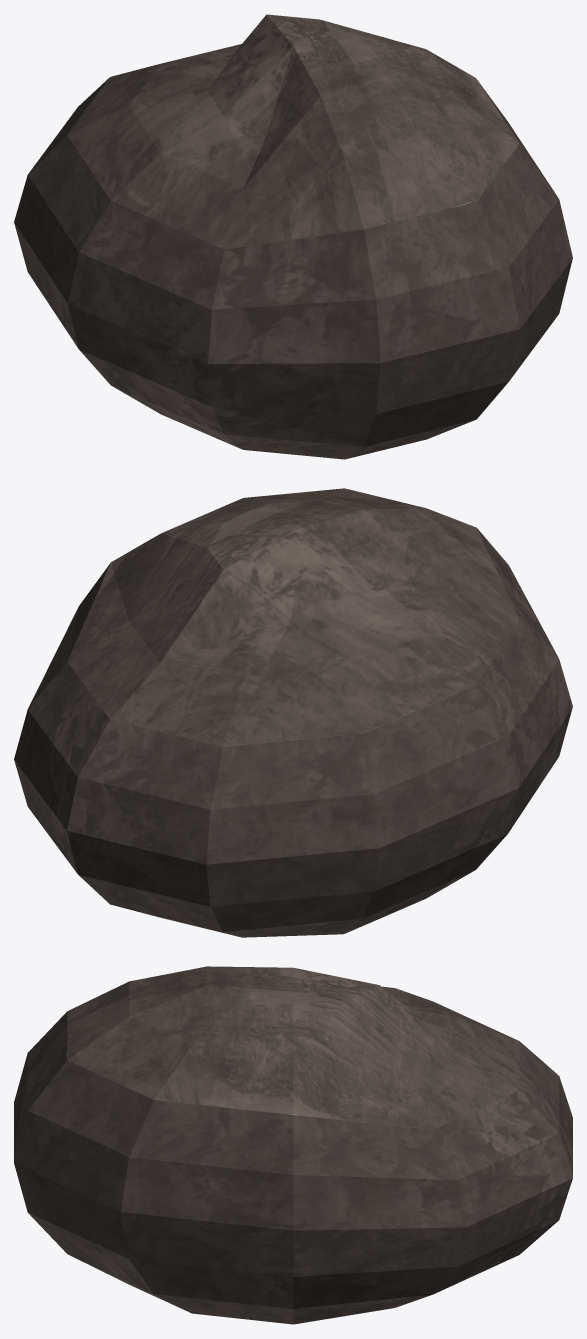
File: Rock 2.dae
3 renders of one model, top to bottom at view 1: azimuth 30°, elevation 25°; view 2: azimuth 150°, elevation 25°; view 3: azimuth 270°, elevation 25°, orthographic. The views are drawn at different scales.
Parts seen in each view (by area): view 1: pSphere1; view 2: pSphere1; view 3: pSphere1.
Boxes of the visible parts, left/top/right/bottom form: pSphere1: left=14, top=14, right=572, bottom=459; pSphere1: left=14, top=488, right=572, bottom=937; pSphere1: left=14, top=966, right=572, bottom=1324.
Bounding box in the file's own units: 1.58 × 1.12 × 1.9.
